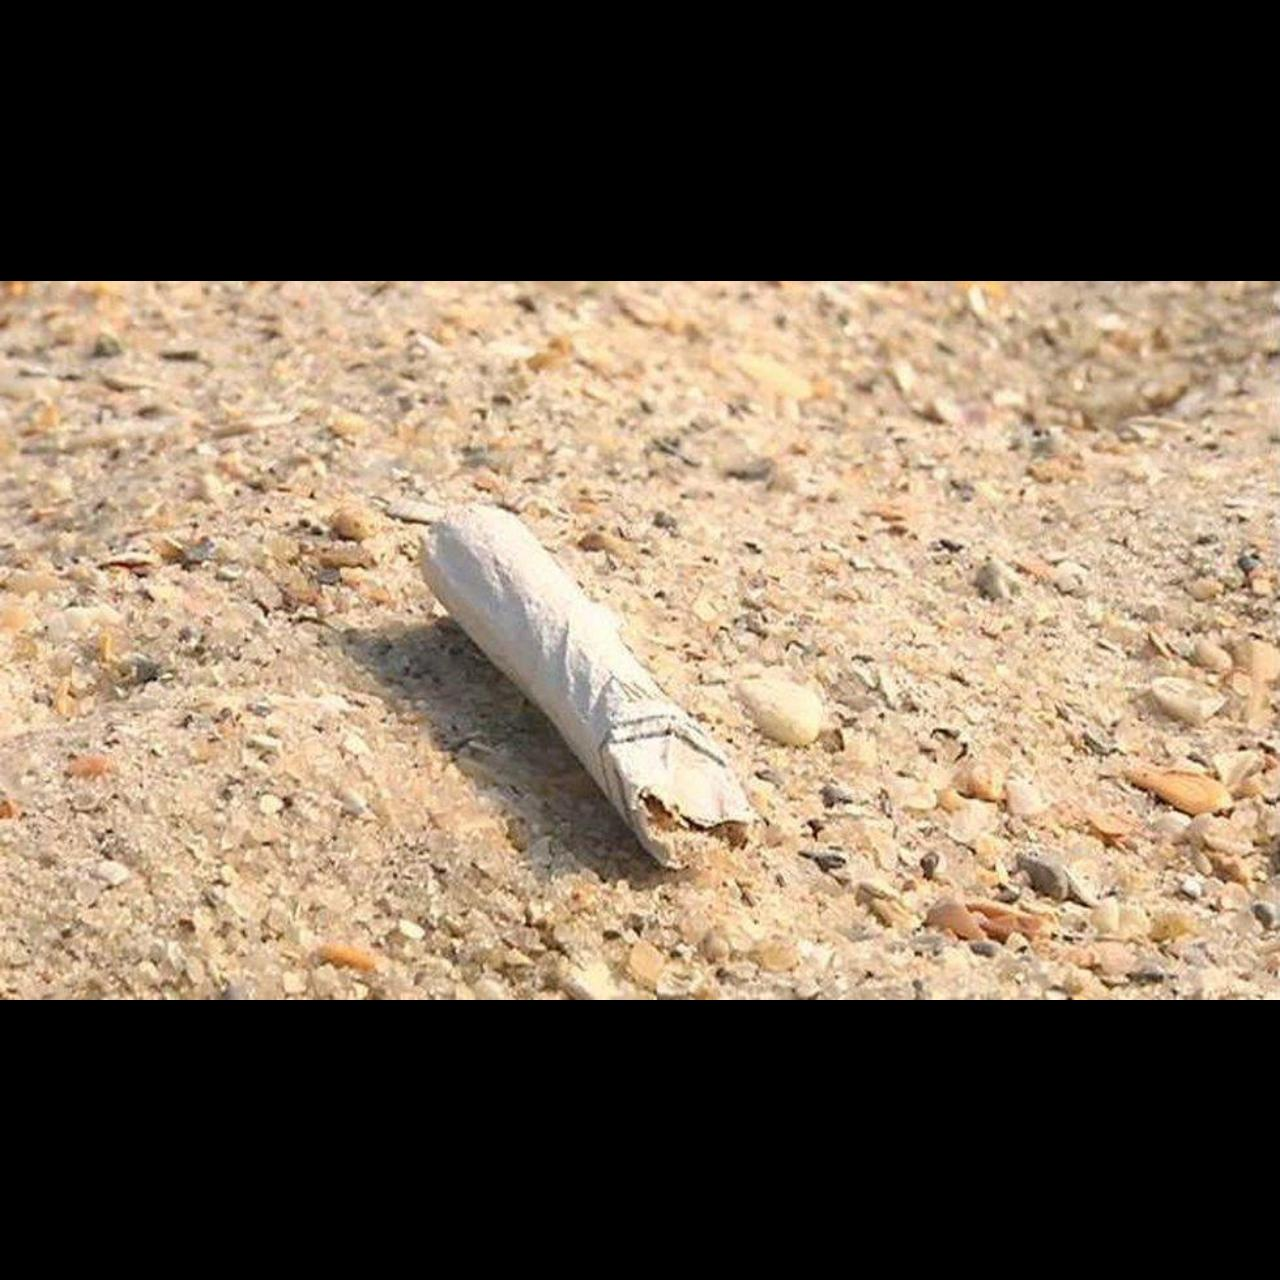cigarettes_butts: (422, 505, 758, 871)
